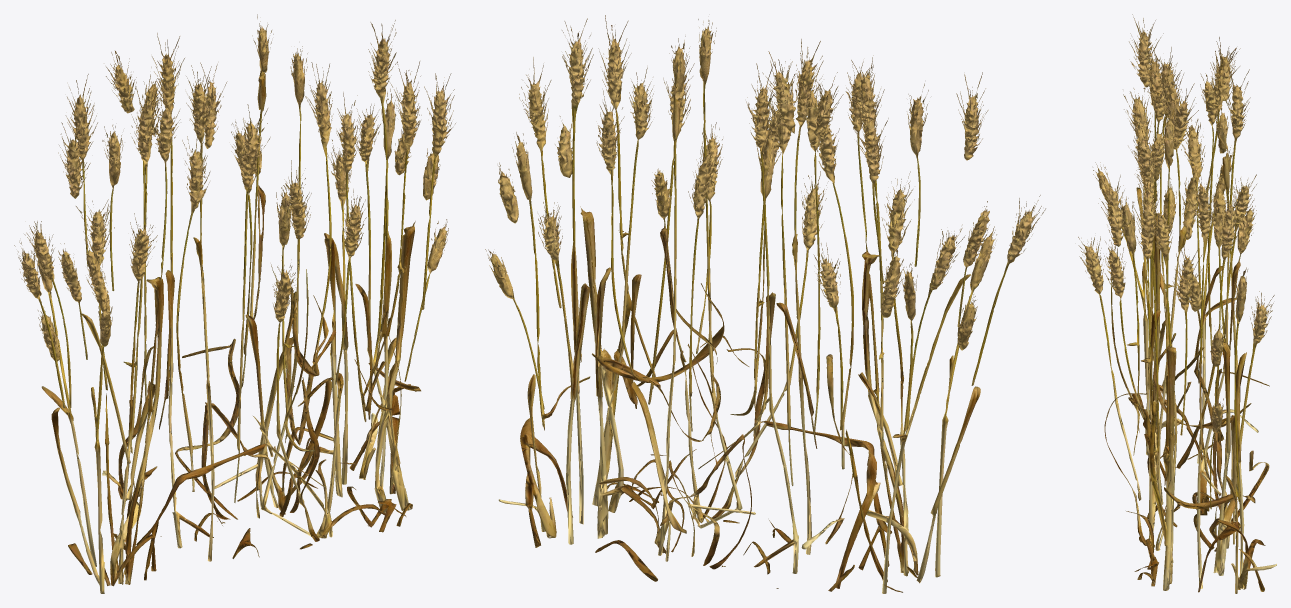
Rendered from wheat.glb.
The picture shows the model from 3 angles, left to right: view 1: azimuth 30°, elevation 25°; view 2: azimuth 150°, elevation 25°; view 3: azimuth 270°, elevation 25°; orthographic projection. The views are drawn at different scales.
Bounding box in the file's own units: 1.89 × 1.88 × 0.7768.
1 material, 1 textured.
